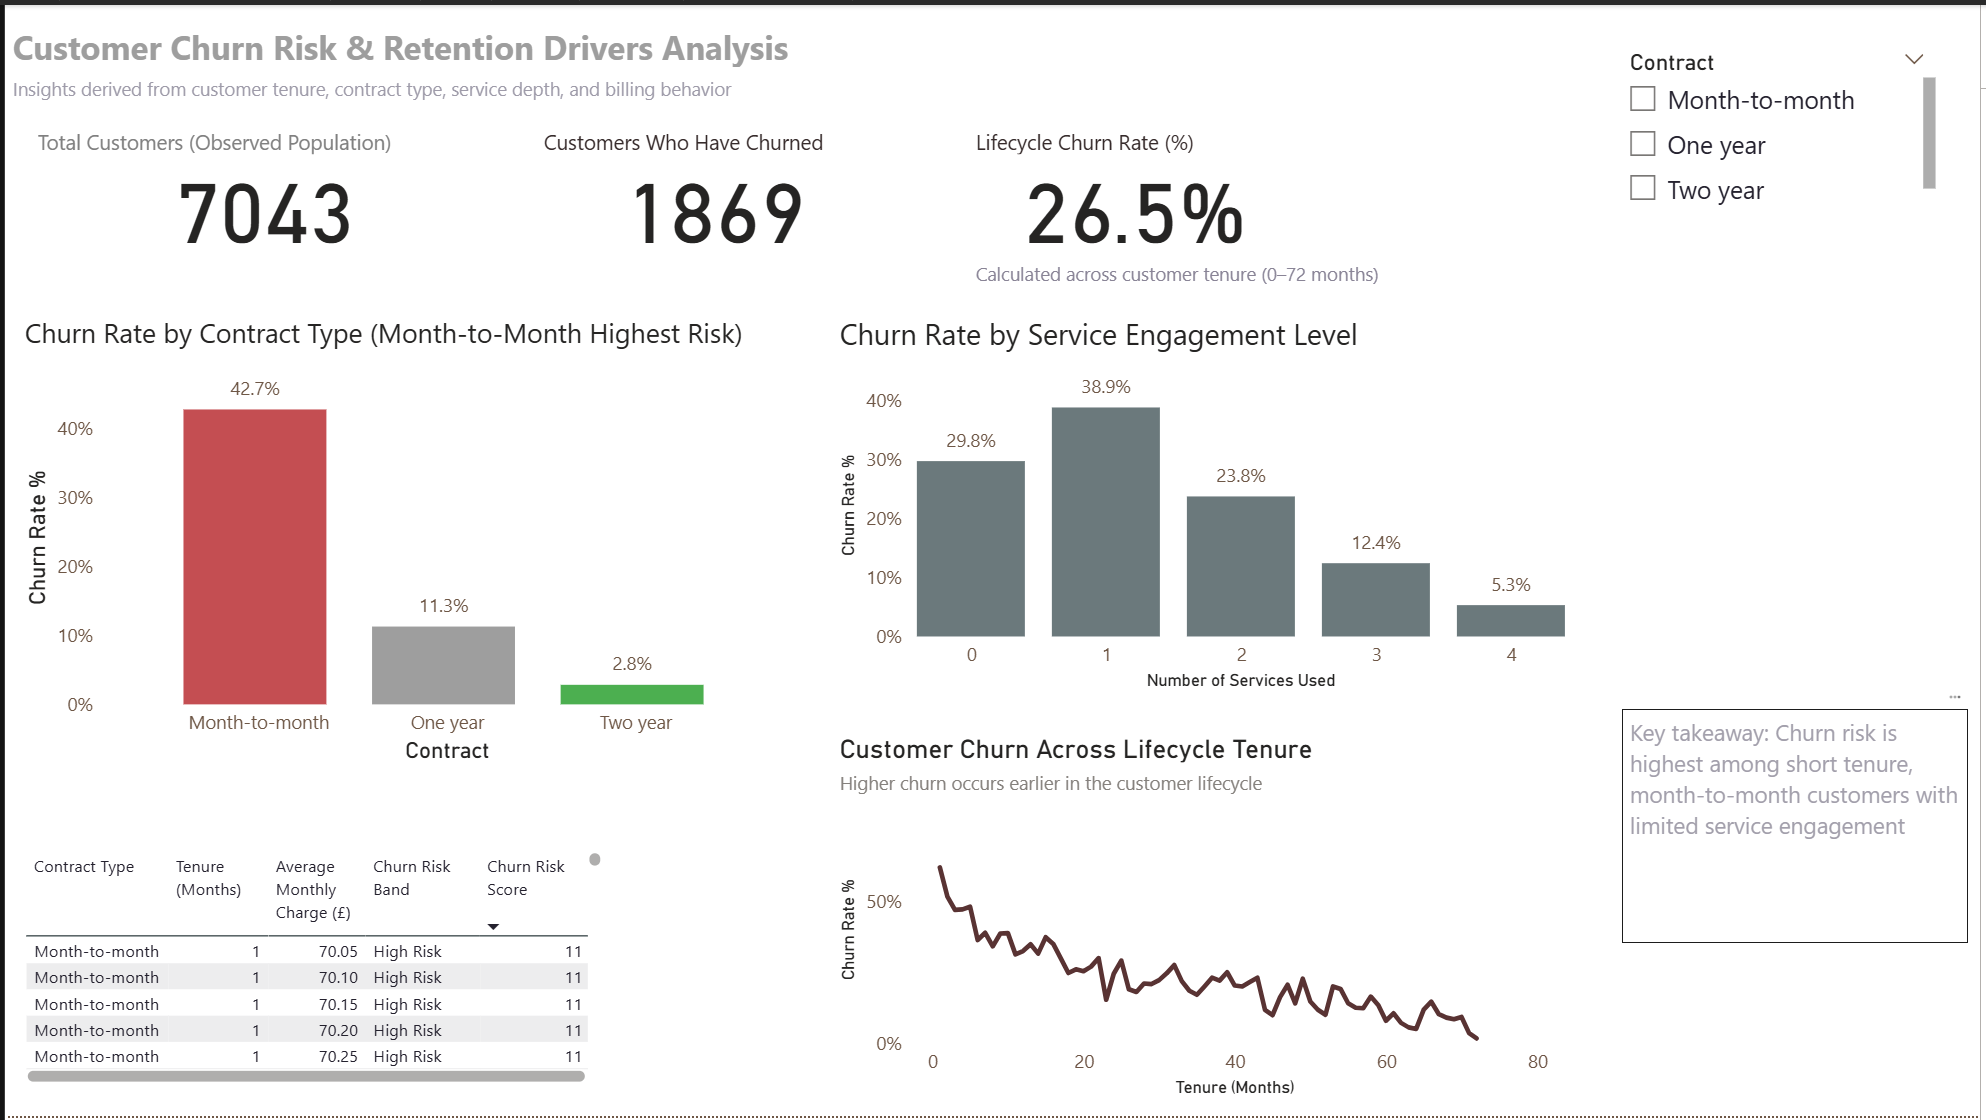

The page's visual inventory and layout, read from the dashboard file:
{"tool":"powerbi","page":{"name":"Page 1","canvas":[1280,720],"ordinal":0},"visuals":[{"type":"card","title":"Total Customers (Observed Population)","fields":{"Values":["vw_churn_risk_final.Total Customers"]},"box":[16,80,304,80],"z":0},{"type":"card","title":"Customers Who Have Churned","fields":{"Values":["vw_churn_risk_final.Churned Customers"]},"box":[344,80,232,80],"z":1000},{"type":"card","title":"Lifecycle Churn Rate (%)","fields":{"Values":["vw_churn_risk_final.Churn Rate %"]},"box":[624,80,216,80],"z":2000},{"type":"clusteredColumnChart","title":"Churn Rate by Contract Type (Month-to-Month Highest Risk)","fields":{"Category":["vw_churn_risk_final.Contract"],"Y":["vw_churn_risk_final.Churn Rate %"]},"box":[8,200,504,296],"z":3000},{"type":"clusteredColumnChart","title":"Churn Rate by Service Engagement Level","fields":{"Category":["vw_churn_risk_final.Service_Depth"],"Y":["vw_churn_risk_final.Churn Rate %"]},"box":[536,200,480,248],"z":4000},{"type":"tableEx","fields":{"Values":["vw_churn_risk_final.Contract","vw_churn_risk_final.Tenure","vw_churn_risk_final.MonthlyCharges","vw_churn_risk_final.ChurnRiskBand","vw_churn_risk_final.ChurnRiskScore"]},"box":[8,544,384,160],"z":5000},{"type":"slicer","fields":{"Values":["vw_churn_risk_final.Contract"]},"box":[1040,24,216,112],"z":6000},{"type":"textbox","box":[624,160,280,32],"z":7000},{"type":"lineChart","title":"Customer Churn Across Lifecycle Tenure","fields":{"Y":["vw_churn_risk_final.Churn Rate %"],"Category":["vw_churn_risk_final.Tenure"]},"box":[536,472,472,240],"z":8000},{"type":"textbox","box":[0,8,688,40],"z":9000},{"type":"textbox","box":[0,40,488,32],"z":10000},{"type":"textbox","box":[1048,456,224,152],"z":11000}]}

Visuals, with their boxes in screenshot pixels (x1, y1, x2, y2), scaled from the page's 1280x720 canvas onto the 1986x1120 screenshot:
"Total Customers (Observed Population)" card: detection(25, 124, 496, 249)
"Customers Who Have Churned" card: detection(534, 124, 894, 249)
"Lifecycle Churn Rate (%)" card: detection(968, 124, 1303, 249)
"Churn Rate by Contract Type (Month-to-Month Highest Risk)" clusteredColumnChart: detection(12, 311, 794, 772)
"Churn Rate by Service Engagement Level" clusteredColumnChart: detection(832, 311, 1576, 697)
tableEx - vw_churn_risk_final.Contract x vw_churn_risk_final.Tenure: detection(12, 846, 608, 1095)
slicer - vw_churn_risk_final.Contract: detection(1614, 37, 1949, 212)
textbox: detection(968, 249, 1403, 299)
"Customer Churn Across Lifecycle Tenure" lineChart: detection(832, 734, 1564, 1108)
textbox: detection(0, 12, 1067, 75)
textbox: detection(0, 62, 757, 112)
textbox: detection(1626, 709, 1974, 946)
